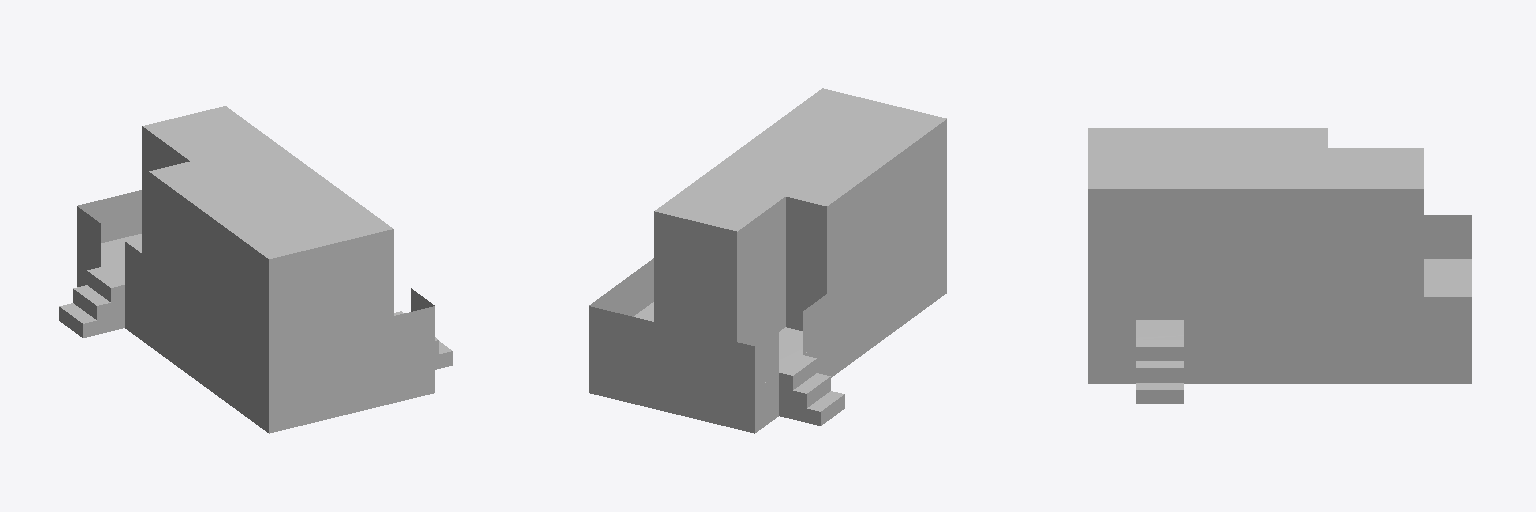
The model's file is House_exterior_ph.obj.
3 renders of one model, left to right at view 1: azimuth 30°, elevation 25°; view 2: azimuth 150°, elevation 25°; view 3: azimuth 270°, elevation 25°, orthographic.
Visible parts, largest first — view 1: Cube.076; view 2: Cube.076; view 3: Cube.076.
Boxes of the visible parts, x1,y1,x2,y2 form: Cube.076: [59, 106, 452, 433]; Cube.076: [589, 88, 946, 433]; Cube.076: [1088, 128, 1471, 403].
Size of the model in its own units: 12.59 by 8.41 by 16.8.